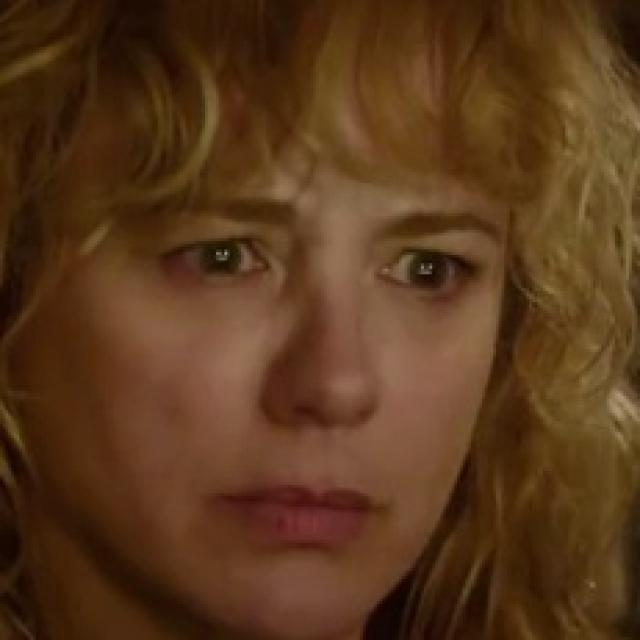Depress: (16, 47, 528, 637)
